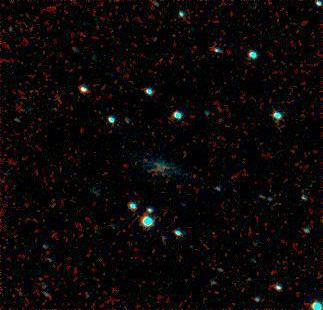star: (256, 259, 286, 289)
